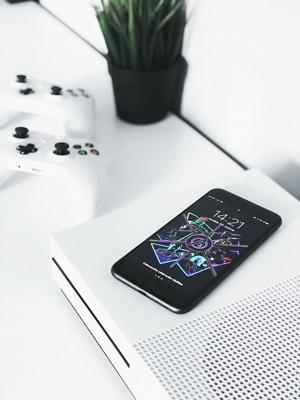cell-phone: (110, 183, 284, 319)
